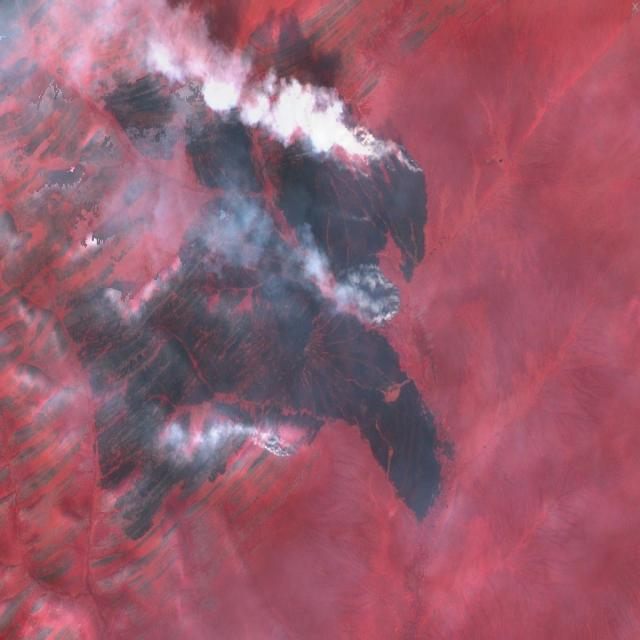fire: (319, 103, 428, 345), (252, 423, 300, 472)
